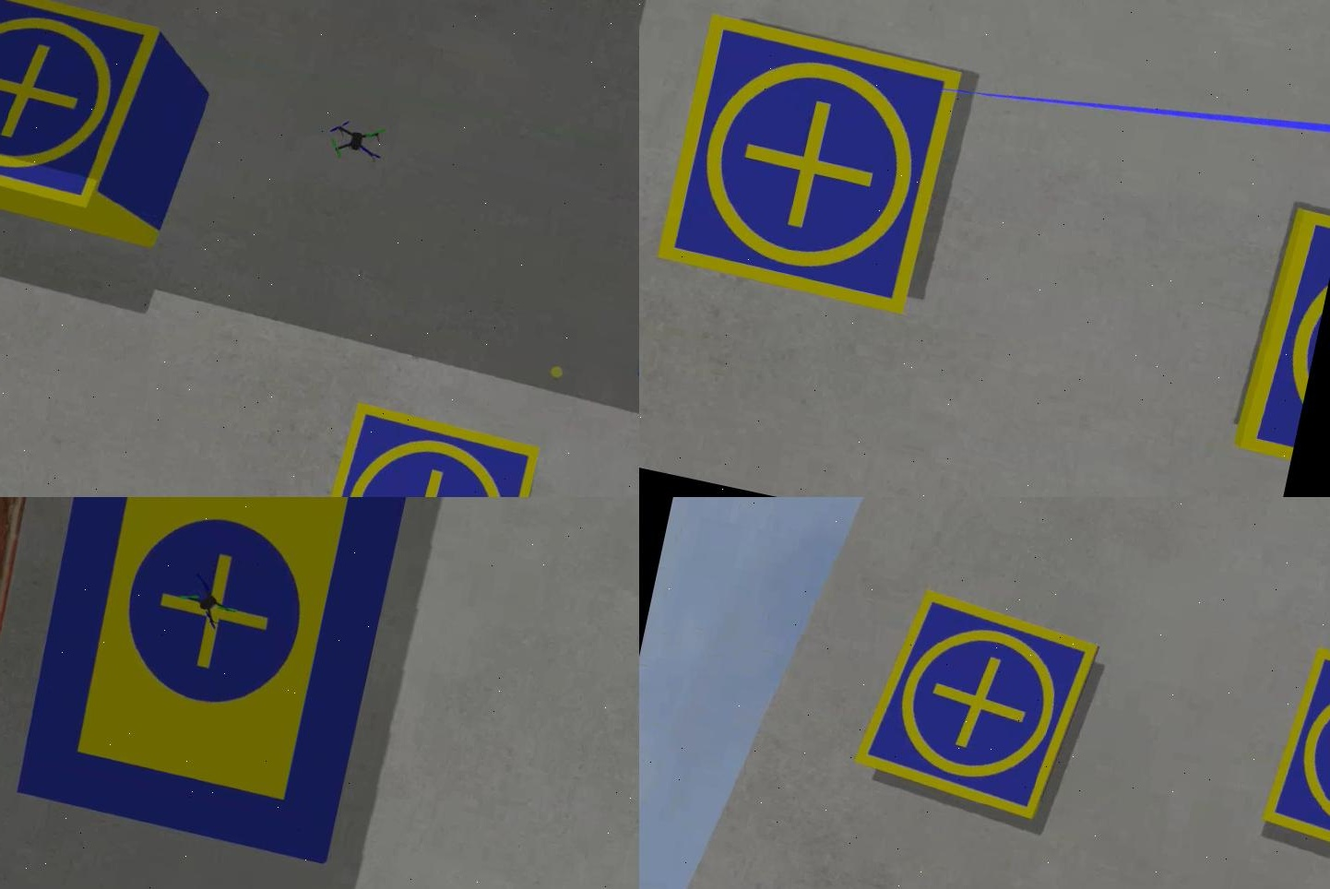large_base: (5, 498, 425, 864)
small_base: (651, 10, 966, 315), (845, 583, 1103, 827), (0, 1, 162, 219), (1229, 197, 1328, 465), (303, 398, 540, 498), (1252, 642, 1328, 883)
